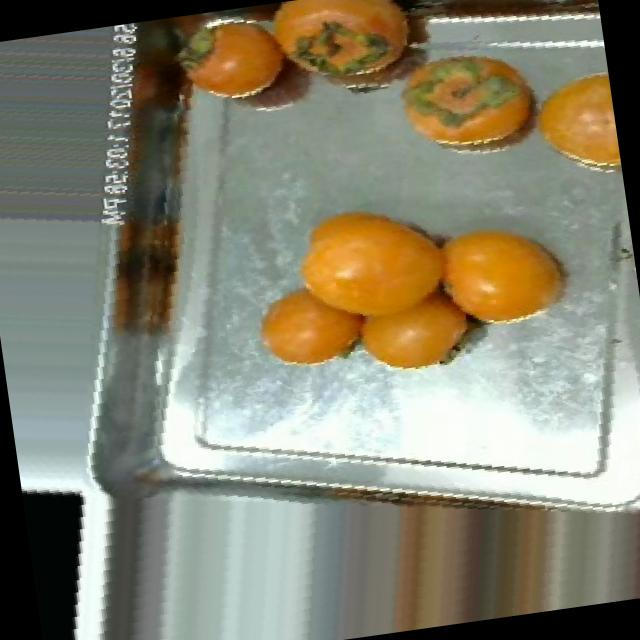Fruit: (372, 27, 562, 188), (240, 266, 385, 389), (520, 61, 624, 190)
